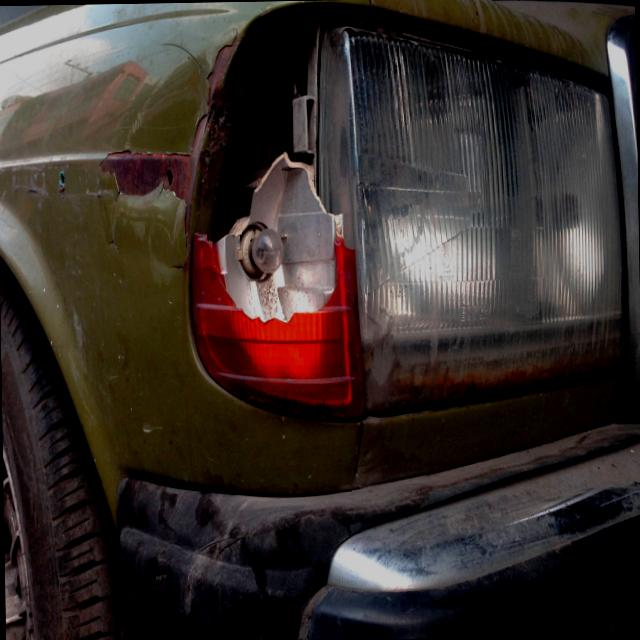Phare abime: (188, 26, 364, 423)
Rayure: (85, 137, 194, 210), (6, 160, 48, 207)
